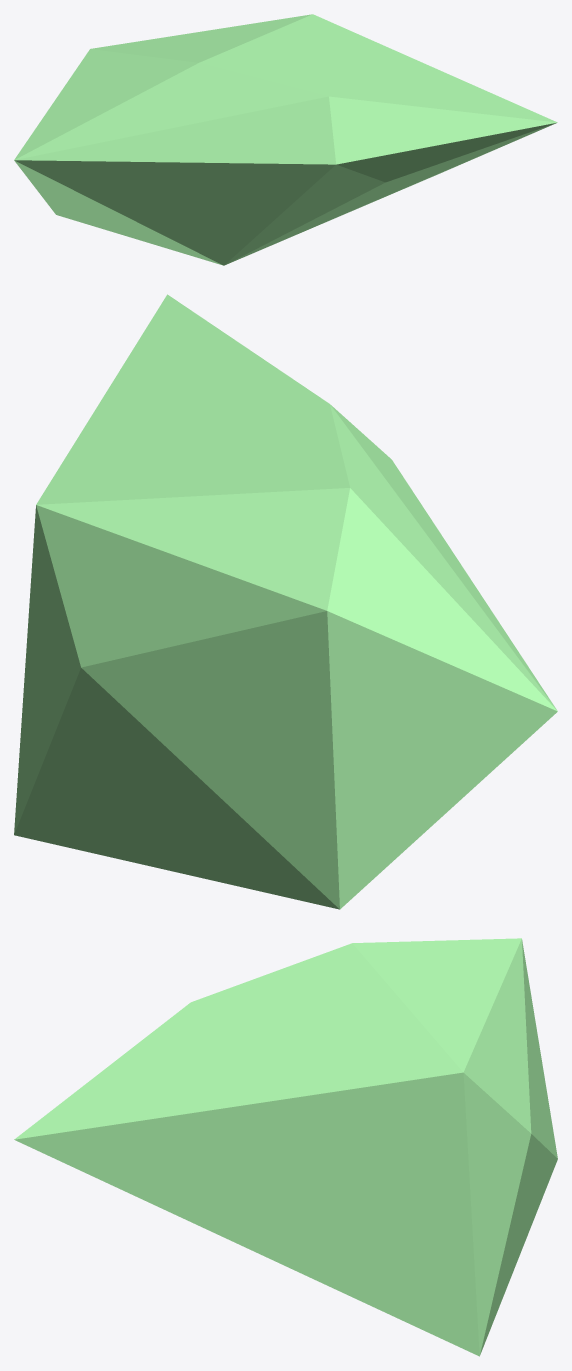
File: UMIRobot_UMIRobot_link_3_convex_coll_30.dae
3 renders of one model, top to bottom at view 1: azimuth 30°, elevation 25°; view 2: azimuth 150°, elevation 25°; view 3: azimuth 270°, elevation 25°, orthographic. The views are drawn at different scales.
Parts seen in each view (by area): view 1: node; view 2: node; view 3: node.
Part boxes in pixels (x1=…): node: x1=14, y1=14, x2=557, y2=265; node: x1=14, y1=294, x2=557, y2=909; node: x1=14, y1=938, x2=557, y2=1356.
Size of the model in its own units: 0.0102 by 0.0055 by 0.0089.
